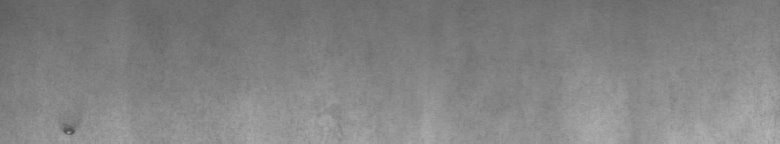fi: (56, 120, 80, 136)
